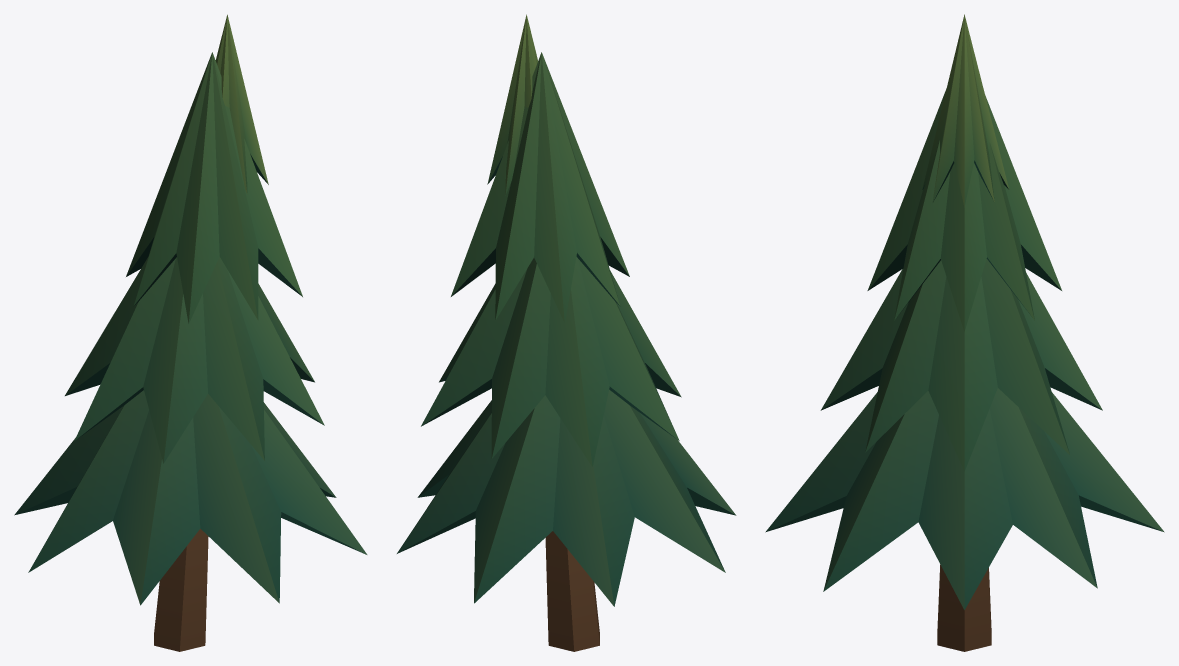
3 renders of one model, left to right at view 1: azimuth 30°, elevation 25°; view 2: azimuth 150°, elevation 25°; view 3: azimuth 270°, elevation 25°, orthographic. The views are drawn at different scales.
Parts seen in each view (by area): view 1: prop_pine_crooked; view 2: prop_pine_crooked; view 3: prop_pine_crooked.
Boxes of the visible parts, x1=… form: prop_pine_crooked: x1=14, y1=14, x2=367, y2=651; prop_pine_crooked: x1=397, y1=14, x2=736, y2=651; prop_pine_crooked: x1=765, y1=14, x2=1164, y2=651.
Bounding box in the file's own units: 3.68 × 7 × 3.91.
